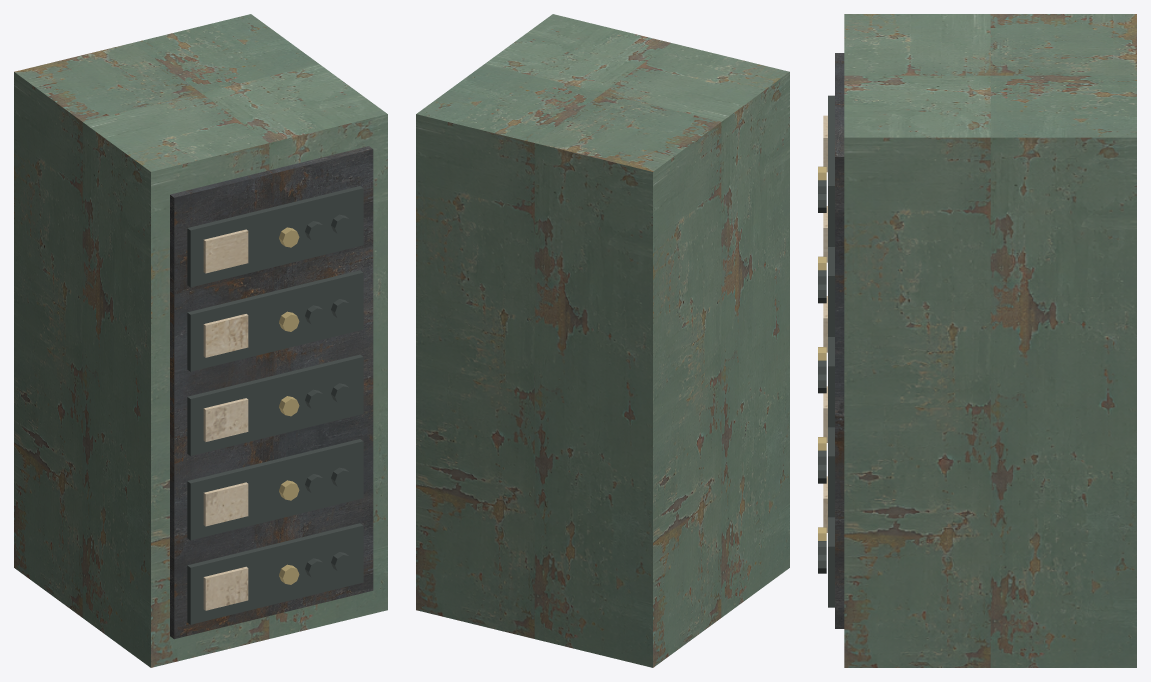
File: silo-equipment-rack.gltf
The picture shows the model from 3 angles, left to right: view 1: azimuth 30°, elevation 25°; view 2: azimuth 150°, elevation 25°; view 3: azimuth 270°, elevation 25°; orthographic projection. The views are drawn at different scales.
Visible parts, largest first — view 1: component-equipment-22-seafoam-0, component-equipment-22-dark-2, component-equipment-22-steel-1, component-equipment-22-ivory-3, component-equipment-22-brass-4; view 2: component-equipment-22-seafoam-0; view 3: component-equipment-22-seafoam-0, component-equipment-22-steel-1, component-equipment-22-dark-2, component-equipment-22-ivory-3, component-equipment-22-brass-4.
Boxes of the visible parts, left/top/right/bottom form: component-equipment-22-seafoam-0: left=14, top=14, right=387, bottom=667; component-equipment-22-dark-2: left=187, top=186, right=363, bottom=624; component-equipment-22-steel-1: left=170, top=146, right=373, bottom=639; component-equipment-22-ivory-3: left=203, top=229, right=248, bottom=610; component-equipment-22-brass-4: left=279, top=227, right=299, bottom=584; component-equipment-22-seafoam-0: left=416, top=14, right=789, bottom=667; component-equipment-22-seafoam-0: left=844, top=14, right=1136, bottom=667; component-equipment-22-steel-1: left=835, top=53, right=844, bottom=628; component-equipment-22-dark-2: left=818, top=95, right=834, bottom=607; component-equipment-22-ivory-3: left=823, top=115, right=827, bottom=532; component-equipment-22-brass-4: left=818, top=166, right=826, bottom=540.
Bounding box in the file's own units: 1 × 2 × 1.09.
5 materials, 3 textured.
